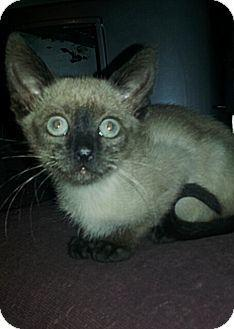siamese: (3, 26, 163, 195)
